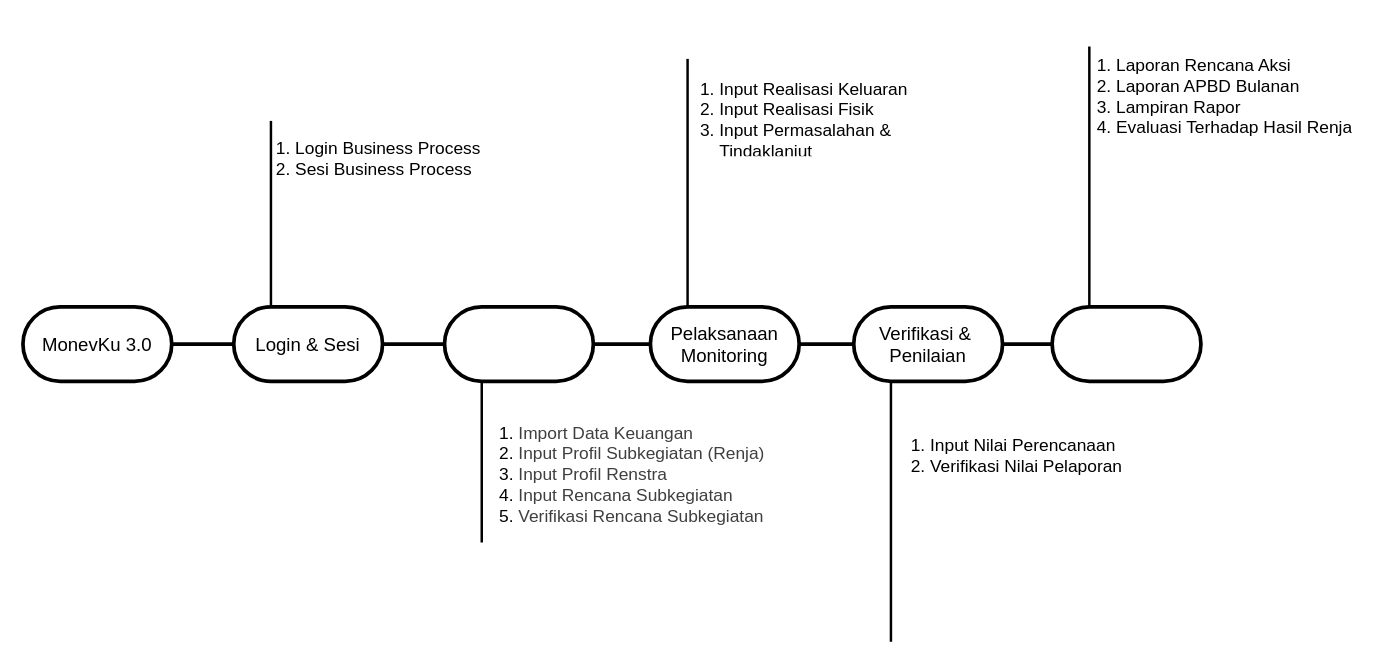
The diagram is 1396 pixels wide and 665 high, and some of its shapes have lost their labels. The shapes that lost their labels are listed below. From the top down, each one's centre as x and y in pixels, then its label:
the point at 518,343: Perencanaan
the point at 1126,343: Output Laporan
